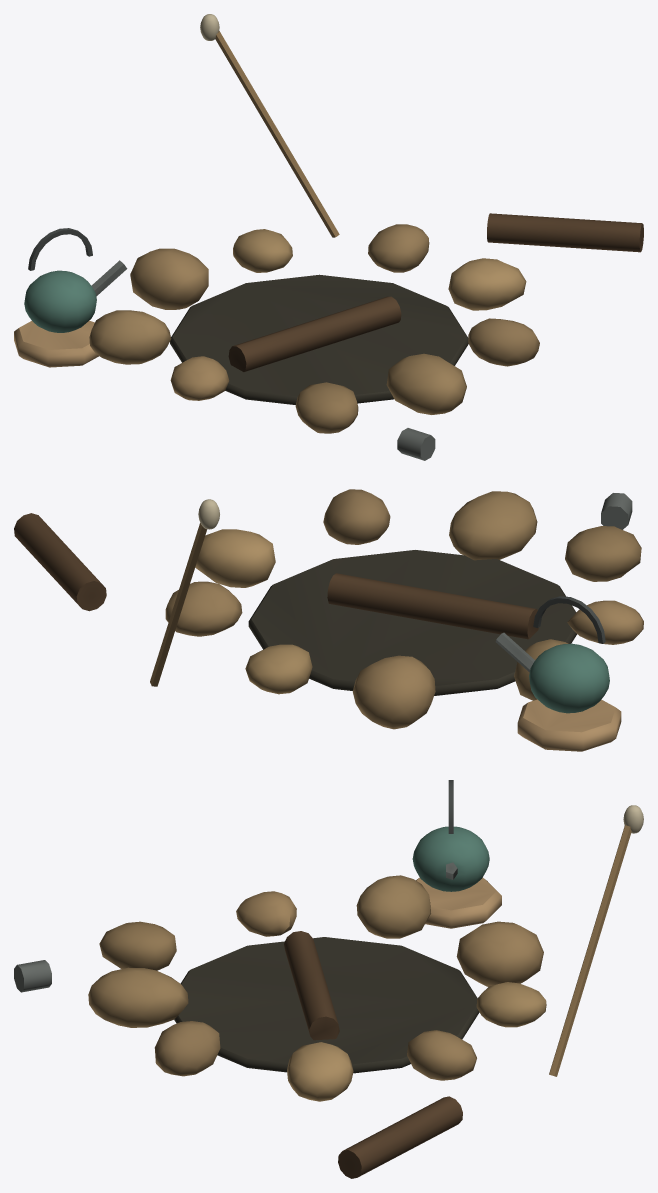
Rendered from crew_campfire_b.glb.
3 views of the same model, one above another, from view 1: azimuth 30°, elevation 25°; view 2: azimuth 150°, elevation 25°; view 3: azimuth 270°, elevation 25° (orthographic). The views are drawn at different scales.
Visible parts, largest first — view 1: Surface; view 2: Surface; view 3: Surface.
Boxes of the visible parts, left/top/right/bottom form: Surface: left=14, top=14, right=643, bottom=460; Surface: left=14, top=489, right=643, bottom=751; Surface: left=14, top=780, right=643, bottom=1178.
Size of the model in its own units: 2.79 by 1.01 by 2.49.
